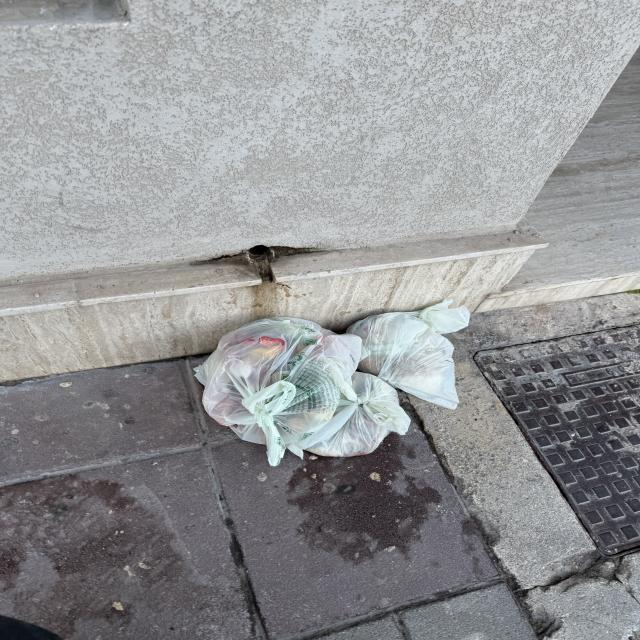Organic Waste -White Bags-: (192, 298, 470, 467)
